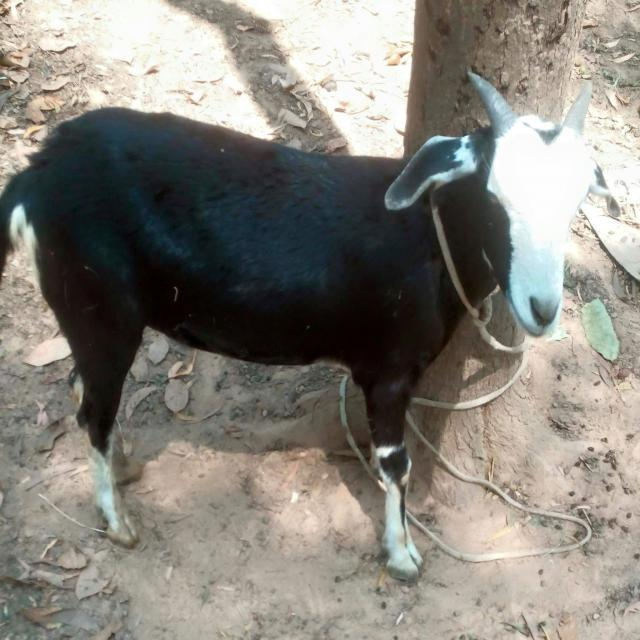Goat: (1, 69, 621, 583)
